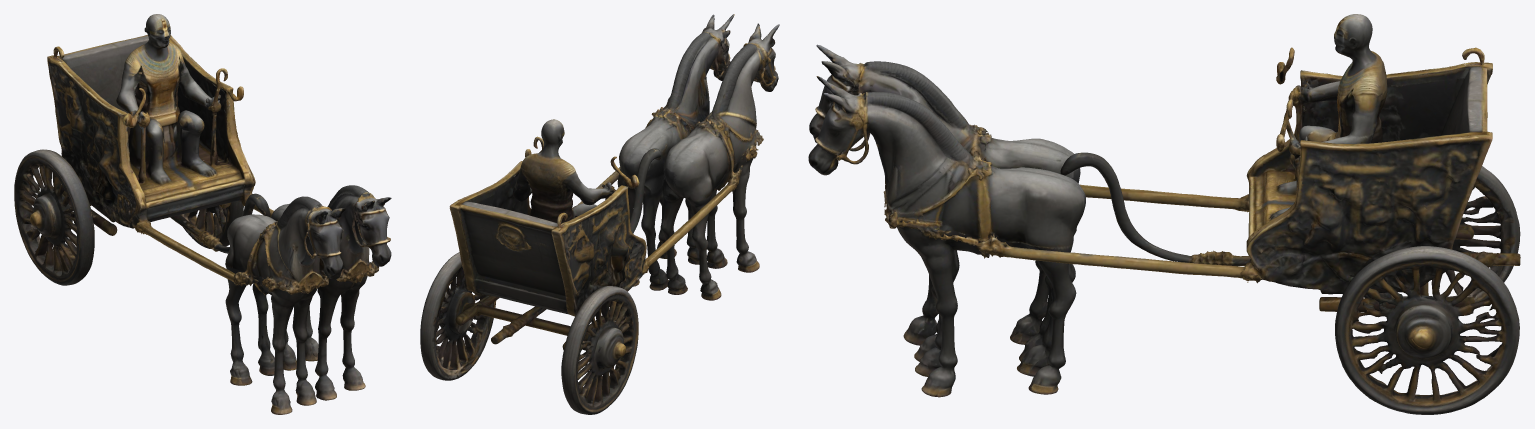
File: Meshy_AI_Unholy_two_wheeled_Eg_0319015453_texture.glb
3 renders of one model, left to right at view 1: azimuth 30°, elevation 25°; view 2: azimuth 150°, elevation 25°; view 3: azimuth 270°, elevation 25°, orthographic. The views are drawn at different scales.
Bounding box in the file's own units: 0.8465 × 1.09 × 2.
1 material, 1 textured.
